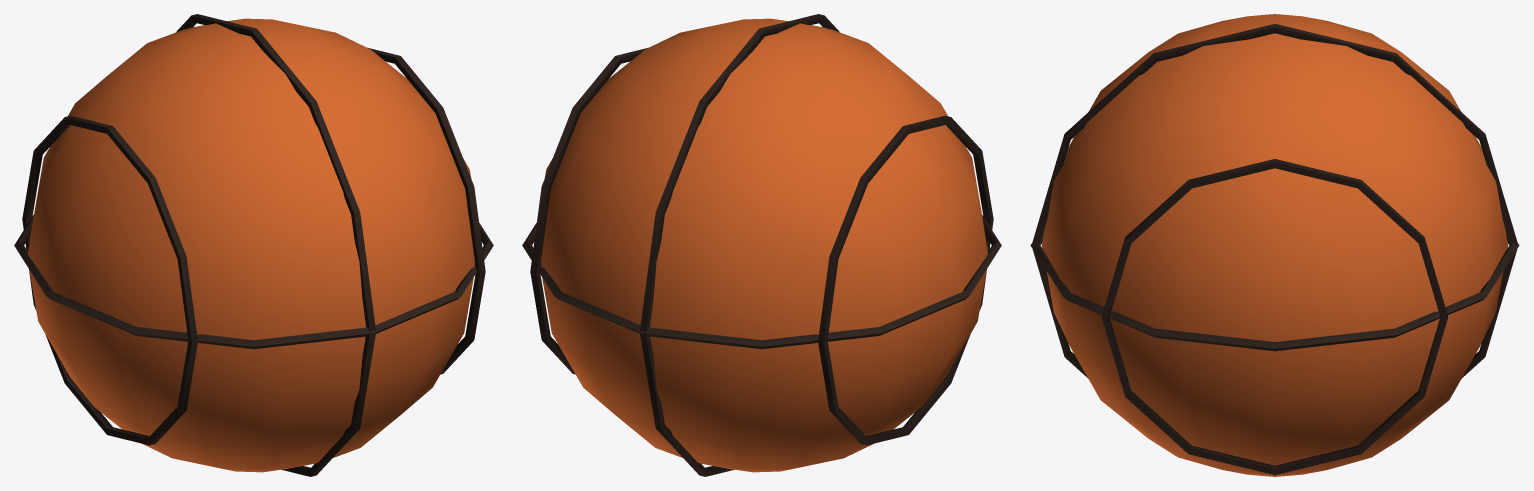
The model's file is basketball.glb.
3 views of the same model, side by side, from view 1: azimuth 30°, elevation 25°; view 2: azimuth 150°, elevation 25°; view 3: azimuth 270°, elevation 25° (orthographic).
Visible parts, largest first — view 1: basketball; view 2: basketball; view 3: basketball.
Part boxes in pixels (box(x1,y1,x2,y2)): basketball: box(14, 14, 493, 476); basketball: box(522, 14, 1001, 476); basketball: box(1030, 14, 1519, 476).
Size of the model in its own units: 0.2516 by 0.2501 by 0.2516.
